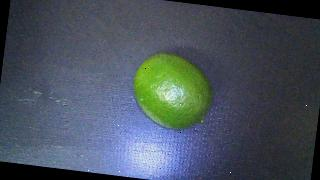EXPORTACION: (129, 50, 217, 133)
